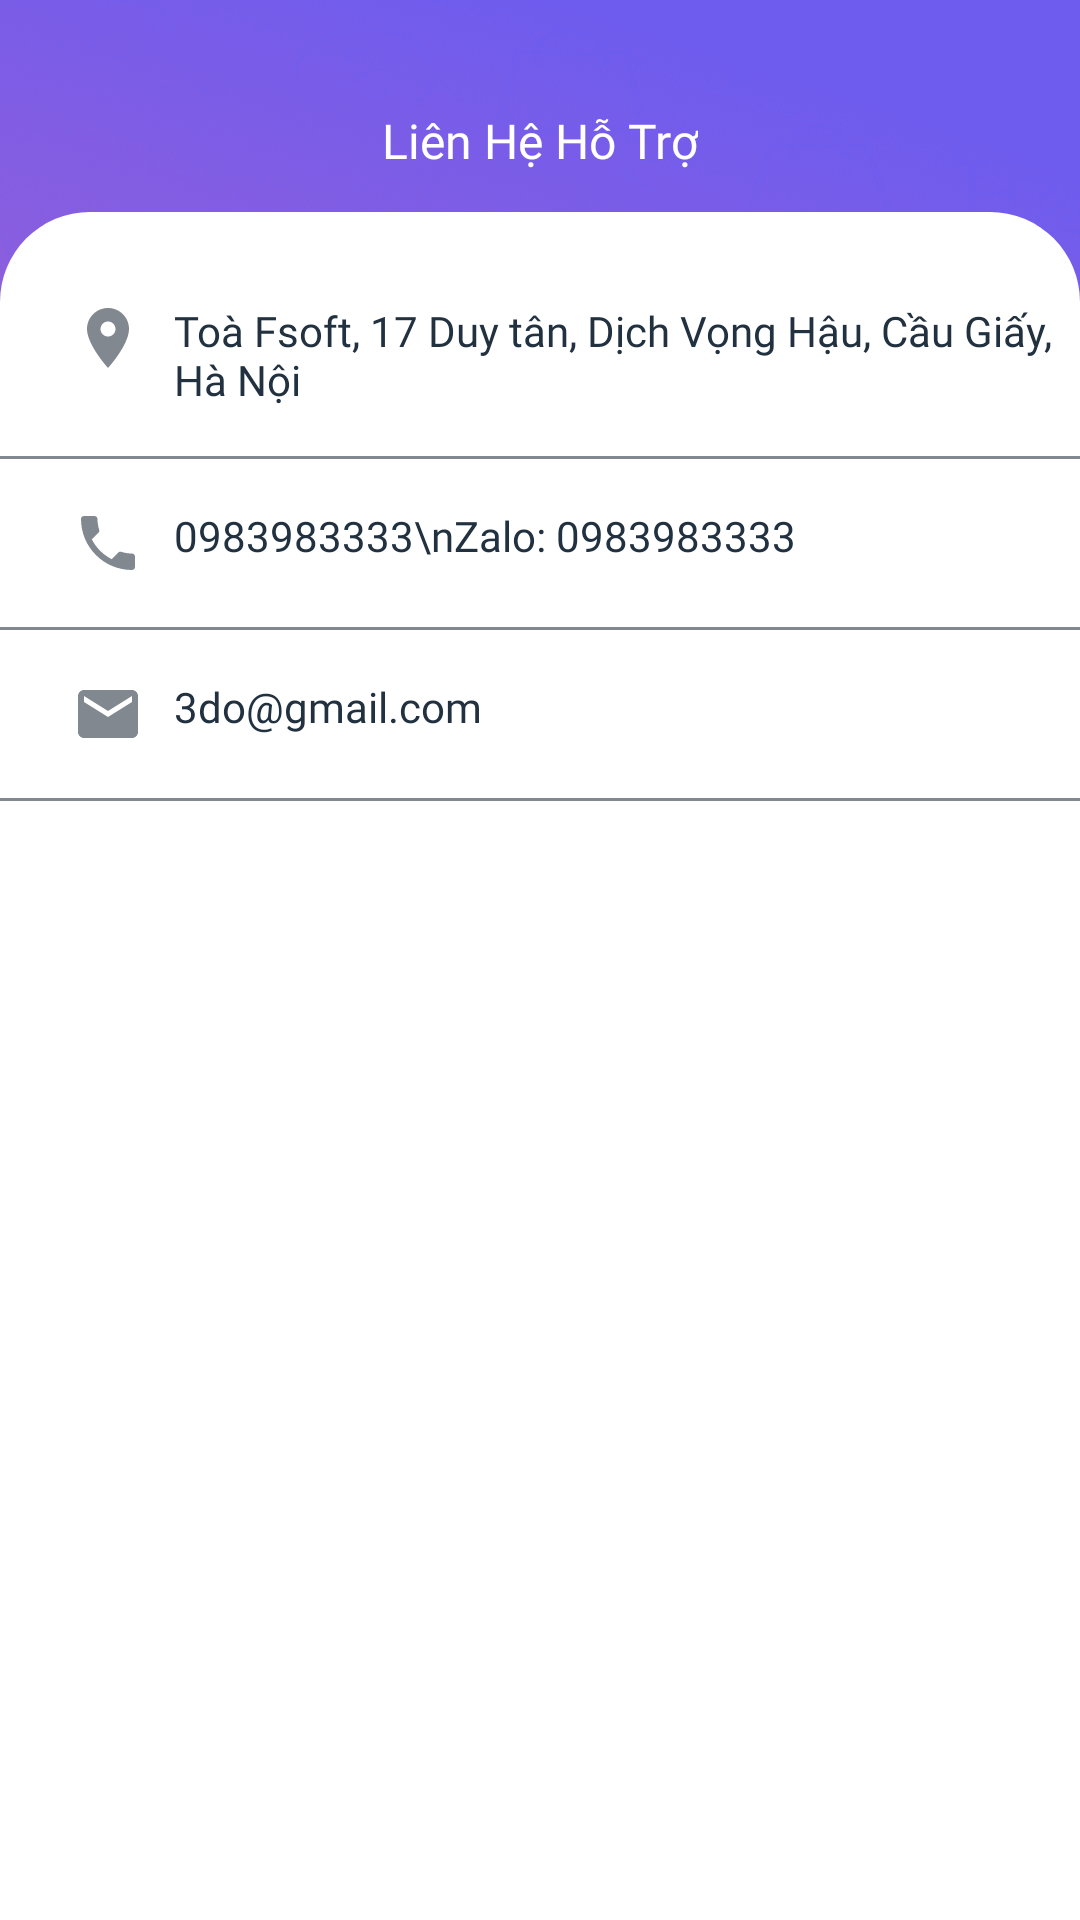

Icons on this 1080 x 1920 Android screen, each with the point to tap as [x,y]:
email: [108,714]
location: [108,338]
phone: [108,543]
